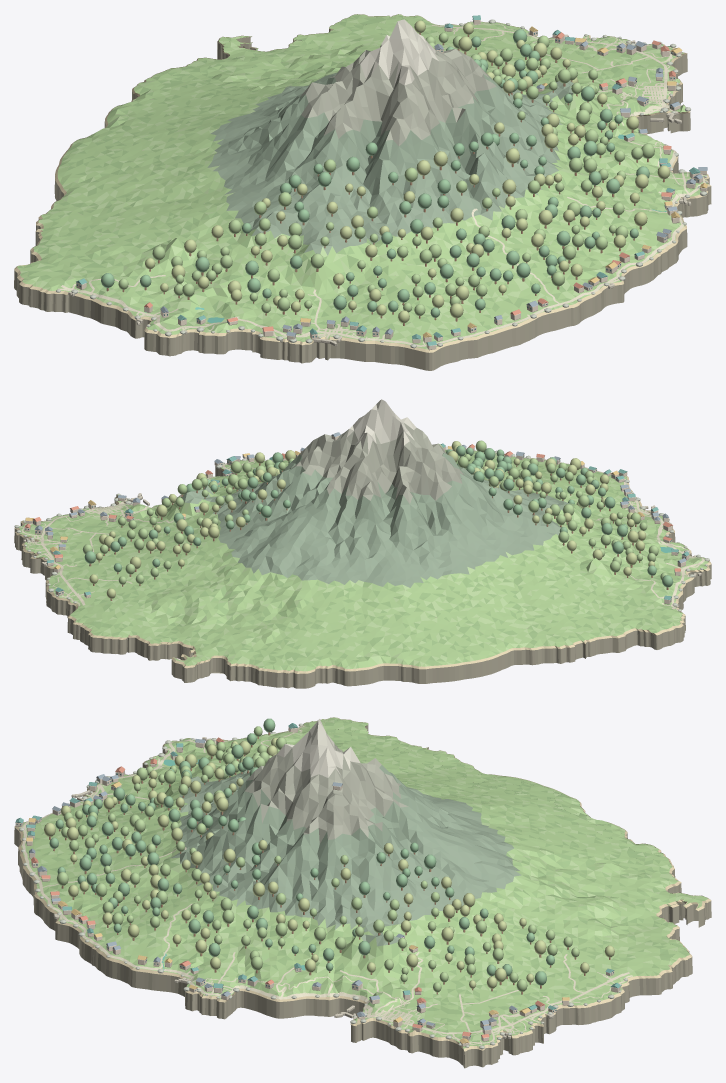
The model's file is rishiri-miniature.glb.
3 views of the same model, one above another, from view 1: azimuth 30°, elevation 25°; view 2: azimuth 150°, elevation 25°; view 3: azimuth 270°, elevation 25° (orthographic). The views are drawn at different scales.
Visible parts, largest first — view 1: Terrain_Meadow_Sage_Mint_Mountain_Highland_Summit, Terrain_Cliff, Vegetation_LeavesMint, Vegetation_LeavesSage, Vegetation_LeavesLime, Roads_Road, Terrain_Sand, Buildings_Walls, Vegetation_Trunk, Terrain_Rock, Buildings_RoofSlate, Buildings_RoofTeal (+3 smaller); view 2: Terrain_Meadow_Sage_Mint_Mountain_Highland_Summit, Terrain_Cliff, Vegetation_LeavesMint, Vegetation_LeavesSage, Vegetation_LeavesLime, Terrain_Sand, Roads_Road, Buildings_Walls, Terrain_Rock, Buildings_RoofSlate, Vegetation_Trunk, Buildings_RoofTeal; view 3: Terrain_Meadow_Sage_Mint_Mountain_Highland_Summit, Terrain_Cliff, Vegetation_LeavesMint, Vegetation_LeavesLime, Vegetation_LeavesSage, Roads_Road, Terrain_Sand, Buildings_Walls, Terrain_Rock, Vegetation_Trunk, Buildings_RoofSlate, Buildings_RoofTeal (+2 smaller).
Part boxes in pixels (bbox=[...]): Terrain_Meadow_Sage_Mint_Mountain_Highland_Summit: bbox=[17, 14, 708, 349]; Terrain_Cliff: bbox=[14, 20, 711, 370]; Vegetation_LeavesMint: bbox=[118, 32, 654, 315]; Vegetation_LeavesSage: bbox=[101, 29, 649, 317]; Vegetation_LeavesLime: bbox=[145, 20, 670, 323]; Roads_Road: bbox=[58, 22, 706, 346]; Terrain_Sand: bbox=[14, 14, 711, 352]; Buildings_Walls: bbox=[76, 19, 707, 350]; Vegetation_Trunk: bbox=[106, 33, 664, 325]; Terrain_Rock: bbox=[56, 19, 708, 348]; Buildings_RoofSlate: bbox=[160, 41, 707, 336]; Buildings_RoofTeal: bbox=[76, 15, 700, 345]; Terrain_Meadow_Sage_Mint_Mountain_Highland_Summit: bbox=[19, 399, 708, 671]; Terrain_Cliff: bbox=[14, 466, 711, 688]; Vegetation_LeavesMint: bbox=[82, 440, 667, 584]; Vegetation_LeavesSage: bbox=[84, 445, 673, 587]; Vegetation_LeavesLime: bbox=[89, 441, 654, 598]; Terrain_Sand: bbox=[14, 454, 711, 673]; Roads_Road: bbox=[20, 449, 704, 610]; Buildings_Walls: bbox=[24, 435, 689, 604]; Terrain_Rock: bbox=[14, 448, 709, 611]; Buildings_RoofSlate: bbox=[34, 432, 686, 563]; Vegetation_Trunk: bbox=[89, 456, 668, 600]; Buildings_RoofTeal: bbox=[46, 443, 689, 599]; Terrain_Meadow_Sage_Mint_Mountain_Highland_Summit: bbox=[19, 717, 708, 1048]; Terrain_Cliff: bbox=[14, 723, 711, 1068]; Vegetation_LeavesMint: bbox=[56, 726, 579, 992]; Vegetation_LeavesLime: bbox=[44, 738, 614, 988]; Vegetation_LeavesSage: bbox=[49, 718, 554, 985]; Roads_Road: bbox=[21, 725, 632, 1045]; Terrain_Sand: bbox=[14, 717, 711, 1051]; Buildings_Walls: bbox=[15, 727, 620, 1046]; Terrain_Rock: bbox=[19, 723, 627, 1049]; Vegetation_Trunk: bbox=[49, 732, 610, 994]; Buildings_RoofSlate: bbox=[29, 739, 517, 1030]; Buildings_RoofTeal: bbox=[15, 723, 620, 1009].
Size of the model in its own units: 91.29 by 23.42 by 80.57.
